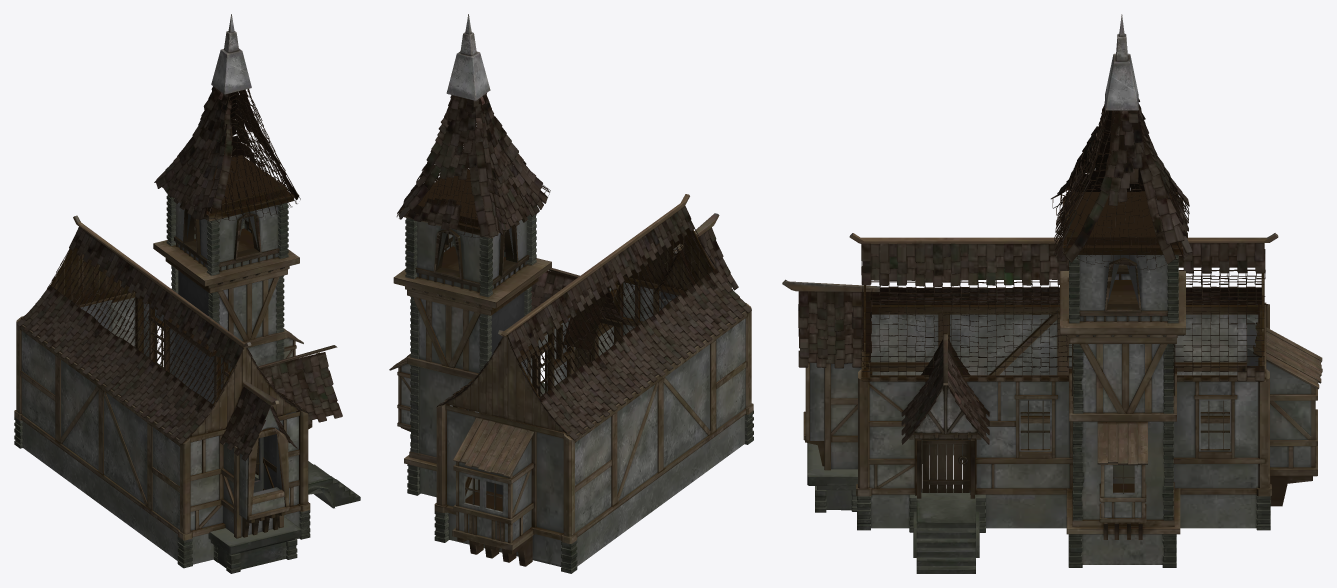
File: service-architectural.glb
3 views of the same model, side by side, from view 1: azimuth 30°, elevation 25°; view 2: azimuth 150°, elevation 25°; view 3: azimuth 270°, elevation 25° (orthographic). The views are drawn at different scales.
Size of the model in its own units: 38.38 by 72.7 by 66.59.
5 materials, 5 textured.
